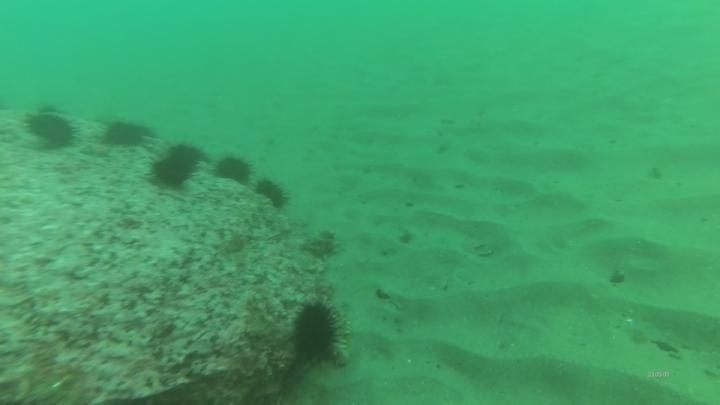echinus: (289, 296, 349, 367), (147, 143, 201, 192), (24, 108, 78, 152), (100, 116, 153, 151), (213, 152, 255, 187), (252, 175, 291, 211), (166, 140, 205, 176)
starfish: (79, 140, 114, 160)
